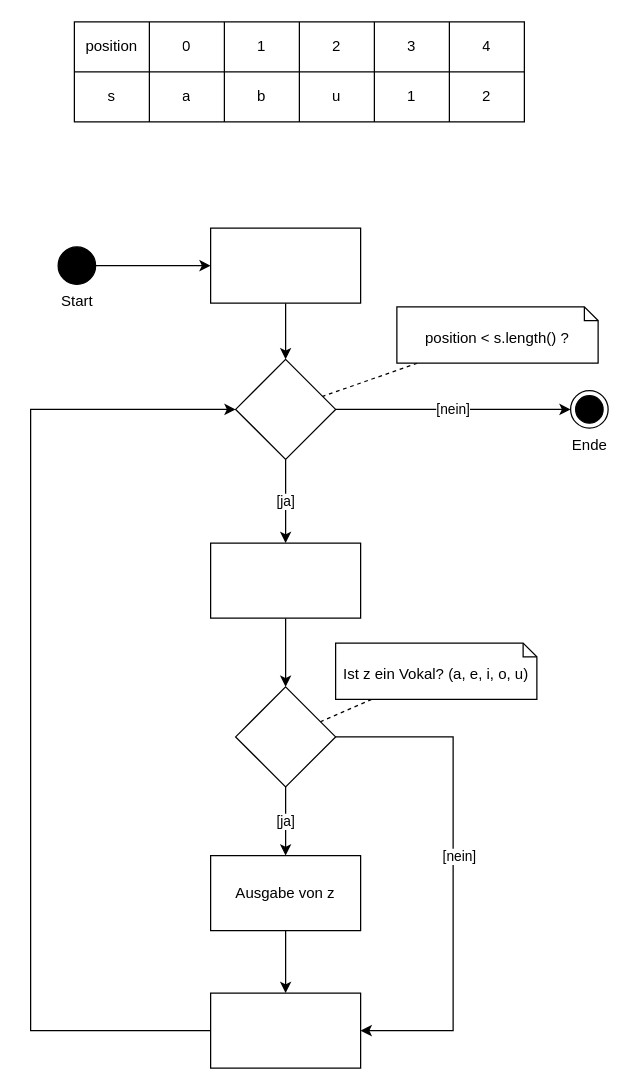
Image size: 630x1090. Some labels were removed from this diagram. Each missing label, with the box of its shape:
position = 0: (209, 227, 361, 303)
position++: (209, 992, 361, 1068)
z = s.charAt(position): (209, 542, 361, 618)
